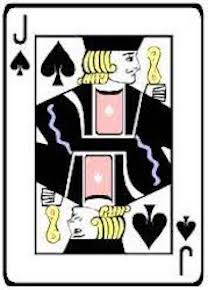JackOfSpades: (3, 2, 206, 288)
